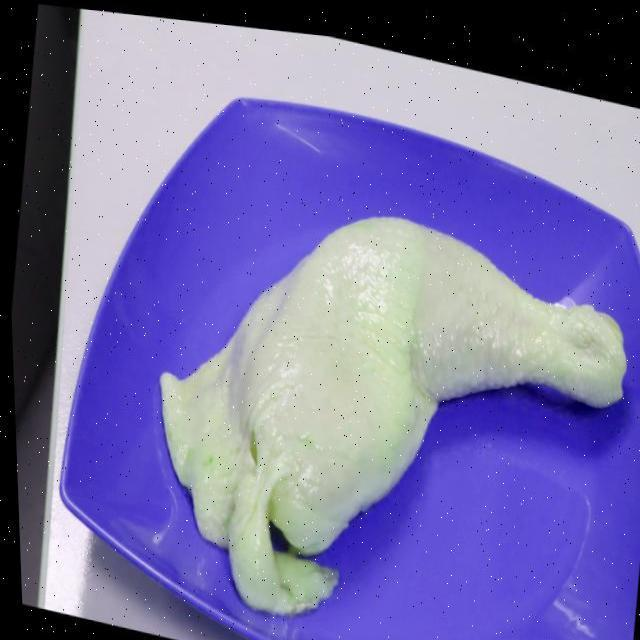quater: (196, 211, 626, 568)
